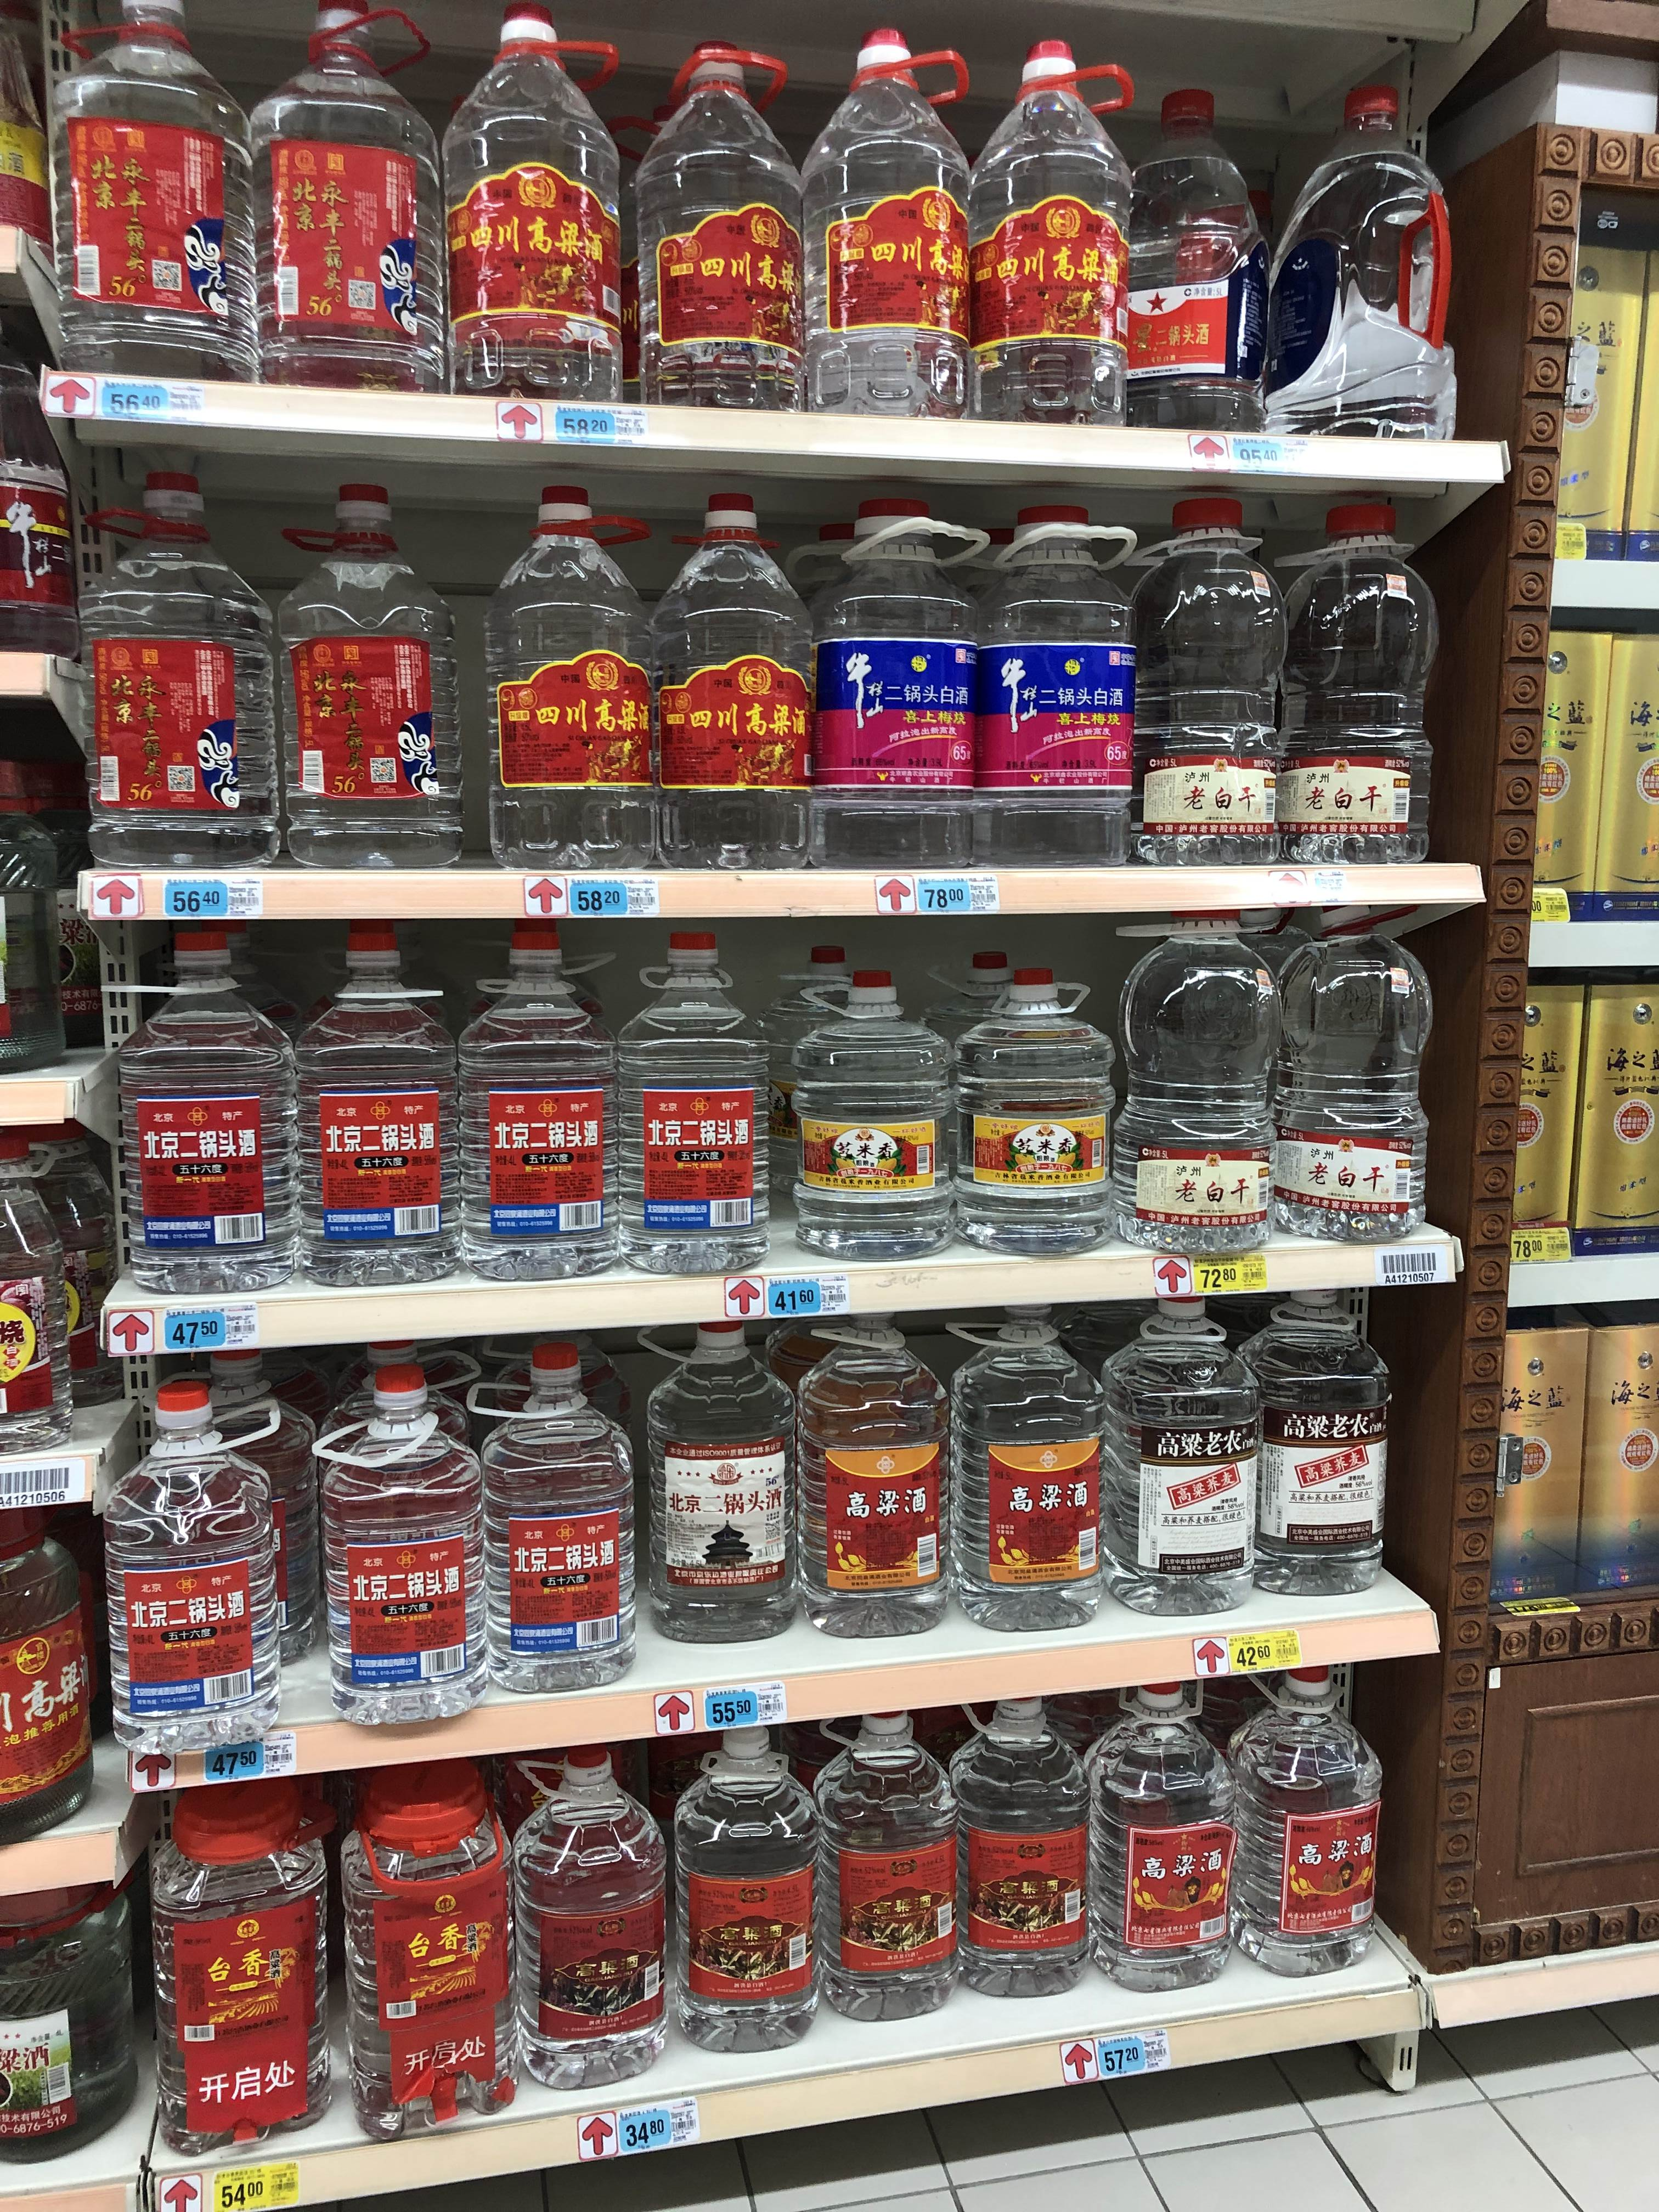bottle: (239, 7, 439, 399), (437, 2, 624, 406), (268, 482, 453, 866), (84, 475, 268, 857), (59, 2, 244, 380), (622, 40, 805, 413), (802, 500, 983, 867), (152, 1777, 329, 2149), (481, 484, 650, 867), (803, 24, 967, 420), (112, 932, 296, 1280), (336, 1763, 521, 2107), (1260, 82, 1441, 428), (108, 1385, 275, 1756), (1270, 502, 1438, 869), (967, 38, 1126, 425), (288, 920, 457, 1282), (458, 920, 626, 1275), (653, 489, 810, 867), (1114, 885, 1276, 1247), (1129, 495, 1284, 869), (317, 1372, 486, 1716), (972, 503, 1136, 857), (1103, 80, 1267, 432), (471, 1343, 633, 1693), (1269, 890, 1429, 1244), (504, 1731, 662, 2088), (948, 1278, 1108, 1630), (643, 1292, 798, 1644), (1100, 1270, 1256, 1613), (795, 1296, 948, 1639), (943, 1662, 1093, 2000), (669, 1712, 817, 2054), (1236, 1263, 1387, 1595), (807, 1691, 957, 2026), (1222, 1658, 1380, 1973), (1084, 1665, 1237, 1989), (619, 932, 763, 1261), (786, 972, 951, 1251), (953, 968, 1114, 1245)
box: (1474, 1312, 1593, 1627), (1563, 237, 1647, 554), (1574, 986, 1654, 1254), (1504, 989, 1586, 1244), (1582, 1322, 1654, 1592), (1532, 634, 1598, 895), (1595, 636, 1657, 906)
bucket: (2, 1844, 139, 2156), (5, 1507, 101, 1843)
